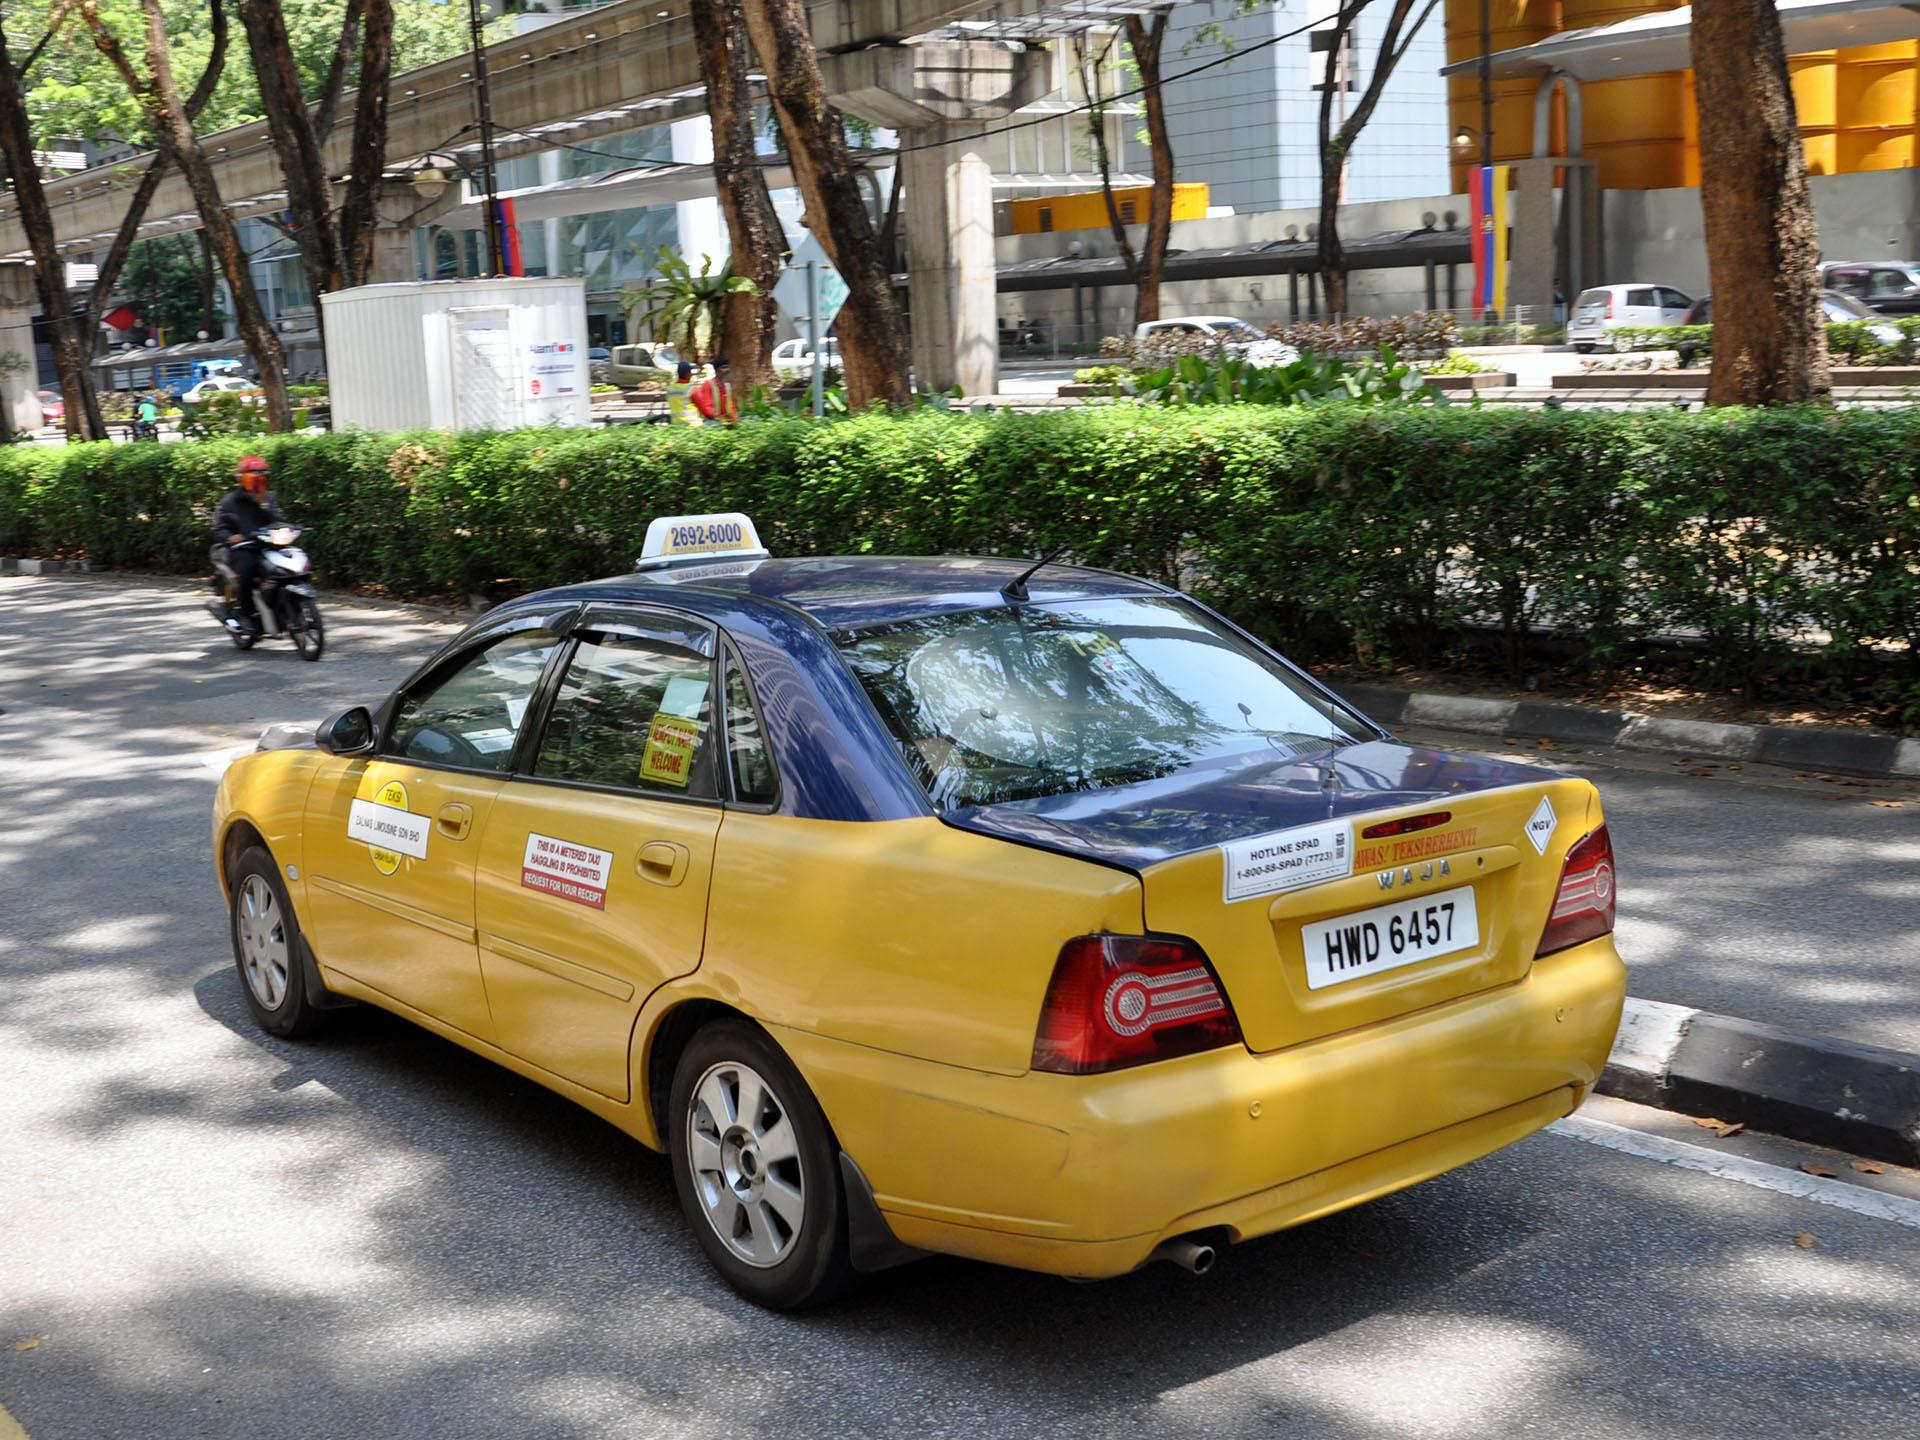License Plate: (1304, 888, 1481, 991)
